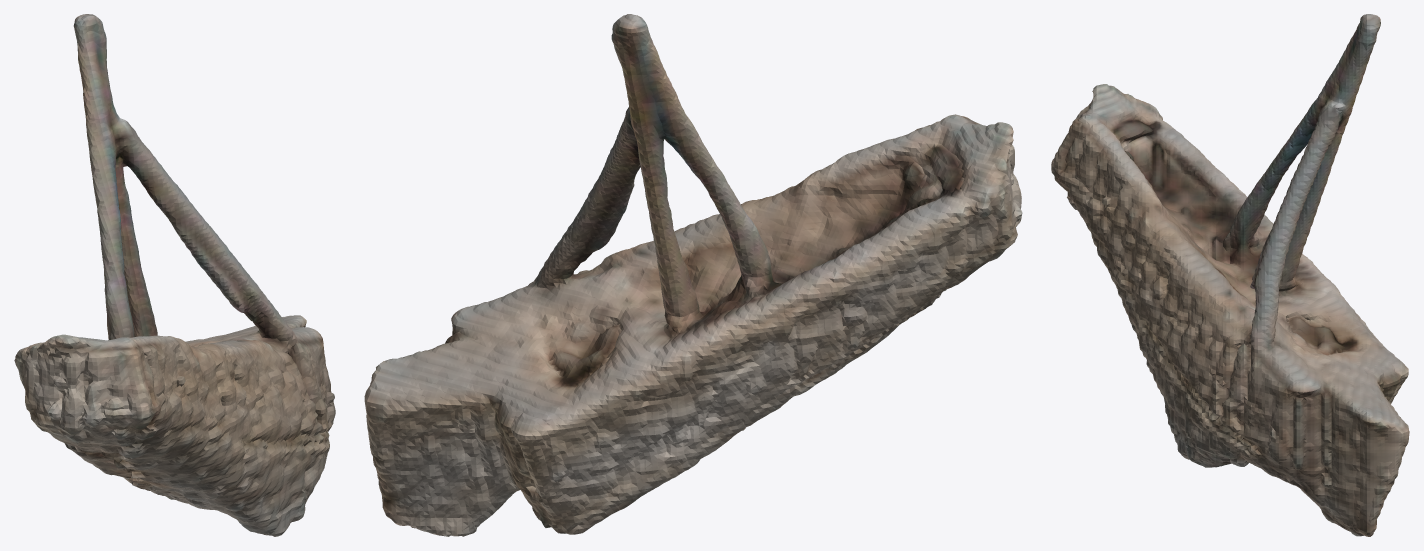
Rendered from banten.glb.
3 views of the same model, side by side, from view 1: azimuth 30°, elevation 25°; view 2: azimuth 150°, elevation 25°; view 3: azimuth 270°, elevation 25° (orthographic). The views are drawn at different scales.
Visible parts, largest first — view 1: world; view 2: world; view 3: world.
Boxes of the visible parts, <box> form: world: <box>14,14,335,536</box>; world: <box>364,14,1022,536</box>; world: <box>1051,14,1409,536</box>.
Bounding box in the file's own units: 0.8219 × 0.9503 × 0.6966.
